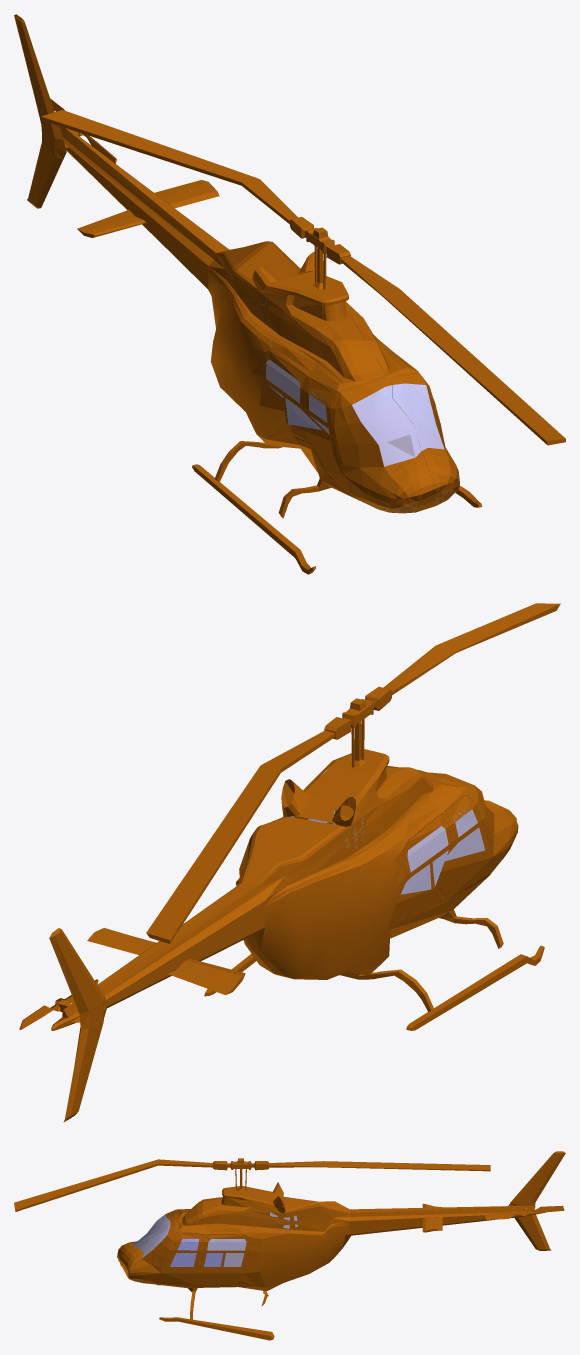
Rendered from helicoDetruit.fbx.
3 views of the same model, one above another, from view 1: azimuth 30°, elevation 25°; view 2: azimuth 150°, elevation 25°; view 3: azimuth 270°, elevation 25° (orthographic). The views are drawn at different scales.
Visible parts, largest first — view 1: helico_body, helice_avant; view 2: helico_body, helice_avant; view 3: helico_body, helice_avant, Helice_arriere.
Boxes of the visible parts, <box> form: helico_body: <box>14,14,482,574</box>; helice_avant: <box>41,110,565,445</box>; helico_body: <box>49,749,544,1122</box>; helice_avant: <box>146,603,560,943</box>; helico_body: <box>117,1151,565,1340</box>; helice_avant: <box>14,1158,490,1211</box>; Helice_arriere: <box>485,1205,564,1219</box>.
Size of the model in its own units: 2.75 by 3.7 by 11.91.
